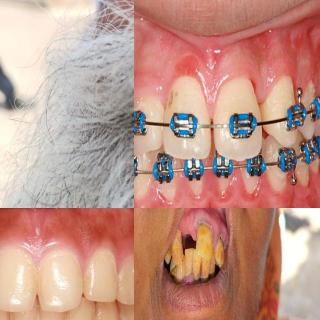Gum Swelling: (134, 51, 318, 118), (134, 171, 295, 208), (0, 231, 70, 267), (70, 237, 128, 275), (179, 217, 228, 245), (176, 275, 198, 287)
calculus: (193, 216, 214, 236), (172, 228, 184, 260), (175, 265, 187, 283), (200, 263, 209, 286), (218, 236, 225, 260), (184, 263, 193, 281), (192, 266, 200, 284)
plaque: (92, 248, 123, 290), (119, 253, 134, 301), (302, 75, 320, 105), (274, 164, 292, 193), (65, 305, 95, 320), (35, 305, 63, 320), (172, 231, 184, 263), (10, 307, 38, 320), (98, 304, 120, 320), (121, 303, 134, 320), (193, 255, 203, 275), (183, 254, 194, 272), (175, 262, 185, 280), (210, 252, 216, 280), (202, 254, 210, 272), (165, 245, 173, 263), (169, 262, 176, 282), (224, 239, 228, 257)
stains: (196, 225, 213, 259), (214, 246, 226, 262)
